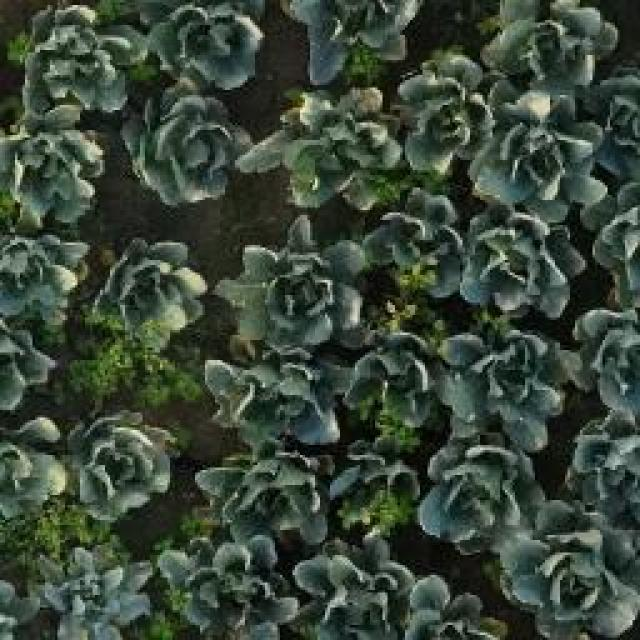cabbage: (502, 500, 640, 638), (223, 216, 361, 354), (439, 326, 577, 439), (482, 92, 606, 208), (157, 538, 294, 640), (273, 90, 397, 202), (196, 354, 349, 444), (462, 210, 586, 321), (128, 89, 251, 199), (422, 435, 532, 553), (472, 0, 612, 92), (390, 49, 492, 175), (25, 540, 147, 640), (134, 0, 268, 88), (290, 546, 410, 640), (206, 447, 326, 541), (72, 415, 176, 522), (20, 3, 125, 108), (286, 0, 429, 76), (346, 314, 442, 427), (368, 188, 470, 288), (99, 235, 206, 328), (0, 122, 98, 219), (332, 446, 426, 542), (0, 230, 80, 325), (400, 572, 498, 640), (563, 408, 640, 488), (0, 414, 62, 512)
